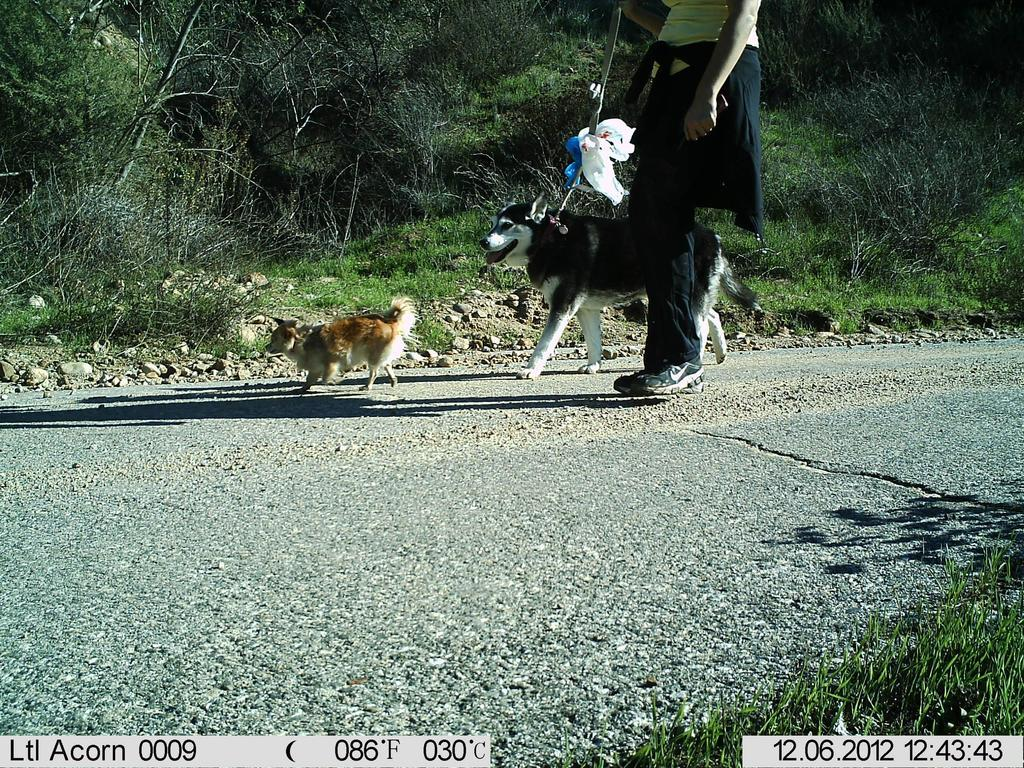dog: (477, 196, 771, 393), (258, 291, 437, 402)
